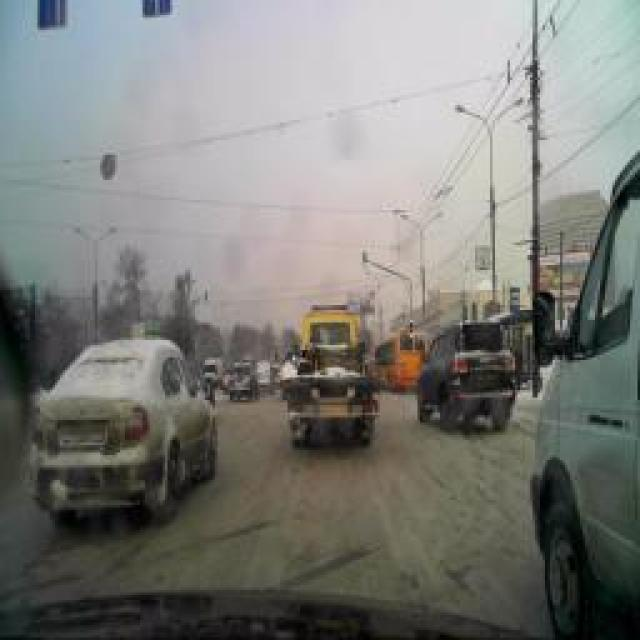sign: (509, 286, 521, 319)
